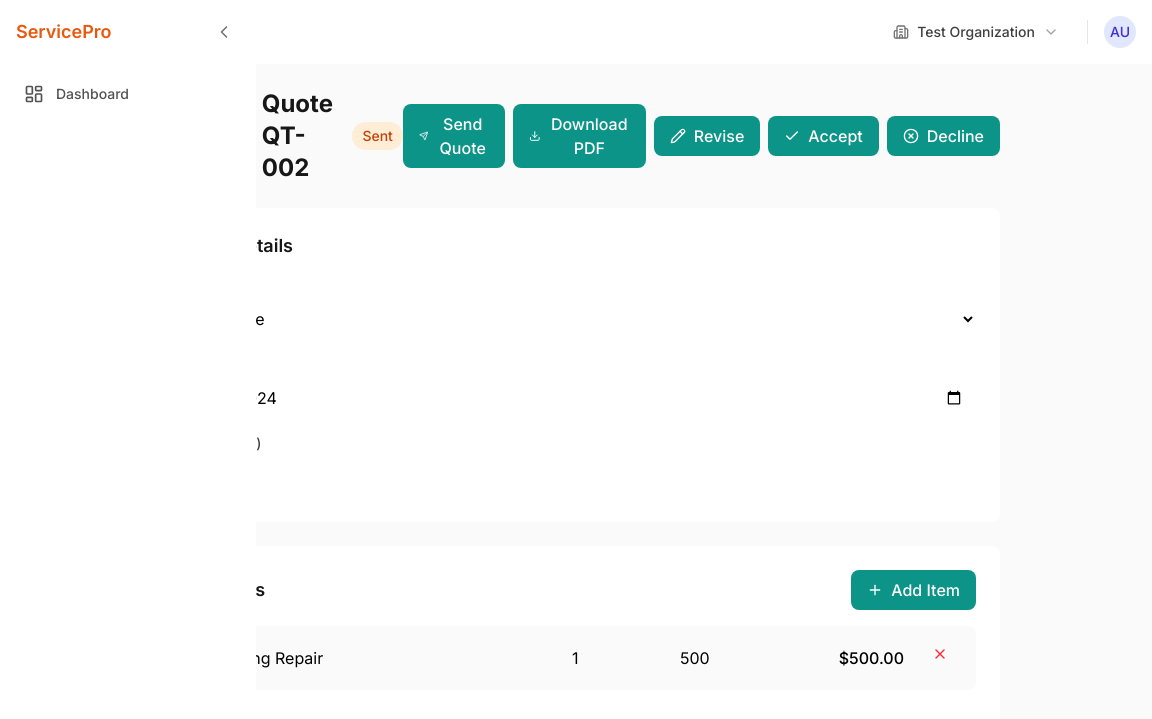
Test: Quote Workflow Integration › Quote Status Transitions › shows the API's reason when accepting is refused
Click the button "Accept".
click(824, 136)  # box [768, 116, 879, 156]
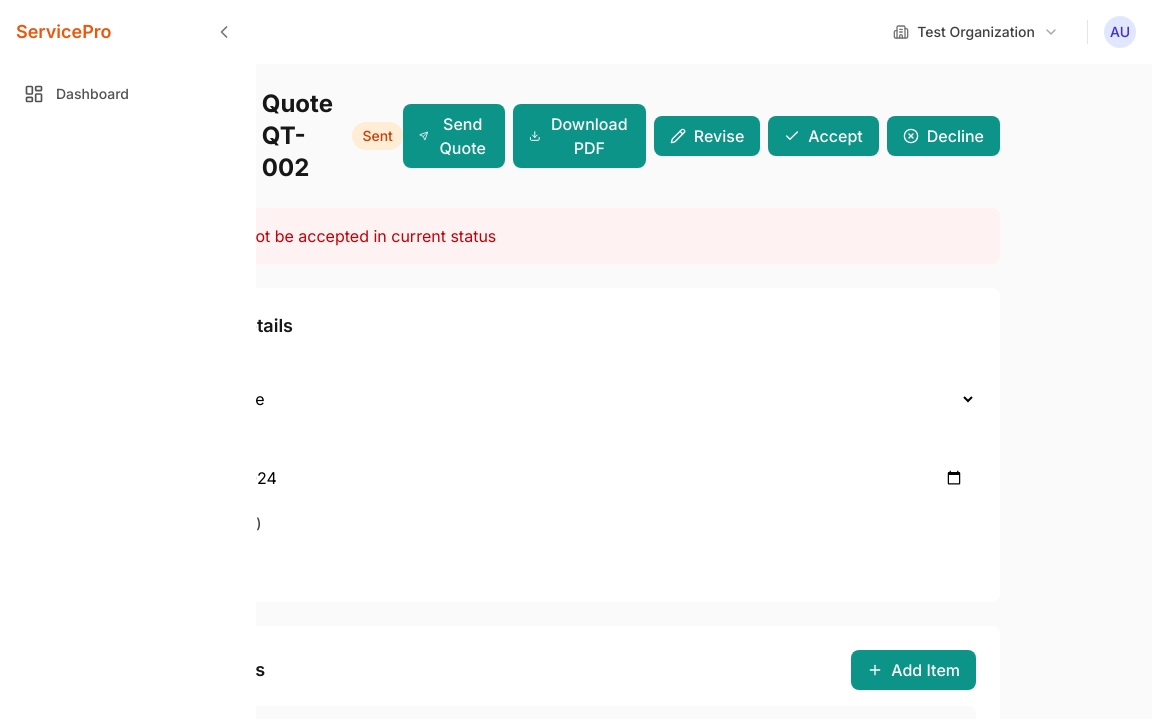
Expected: the text "Sent" is shown, [352, 122, 403, 150]
Result: the text "Quote cannot be accepted in current status" is shown at [152, 208, 1000, 264]
